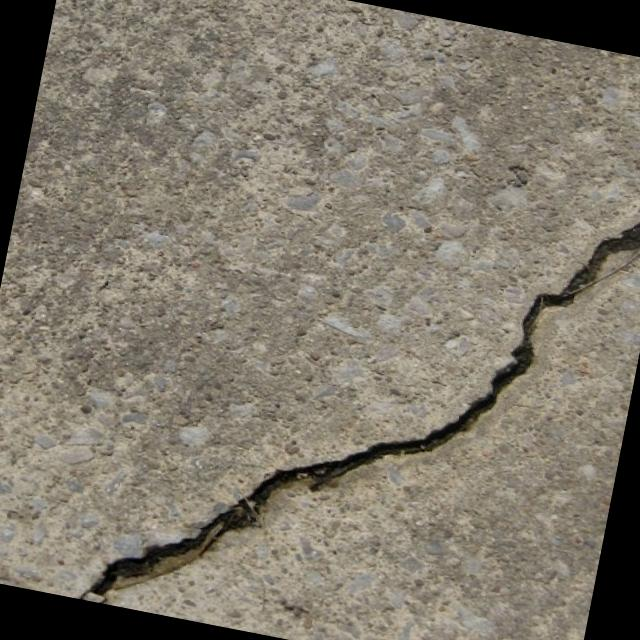crack: (76, 92, 640, 640)
